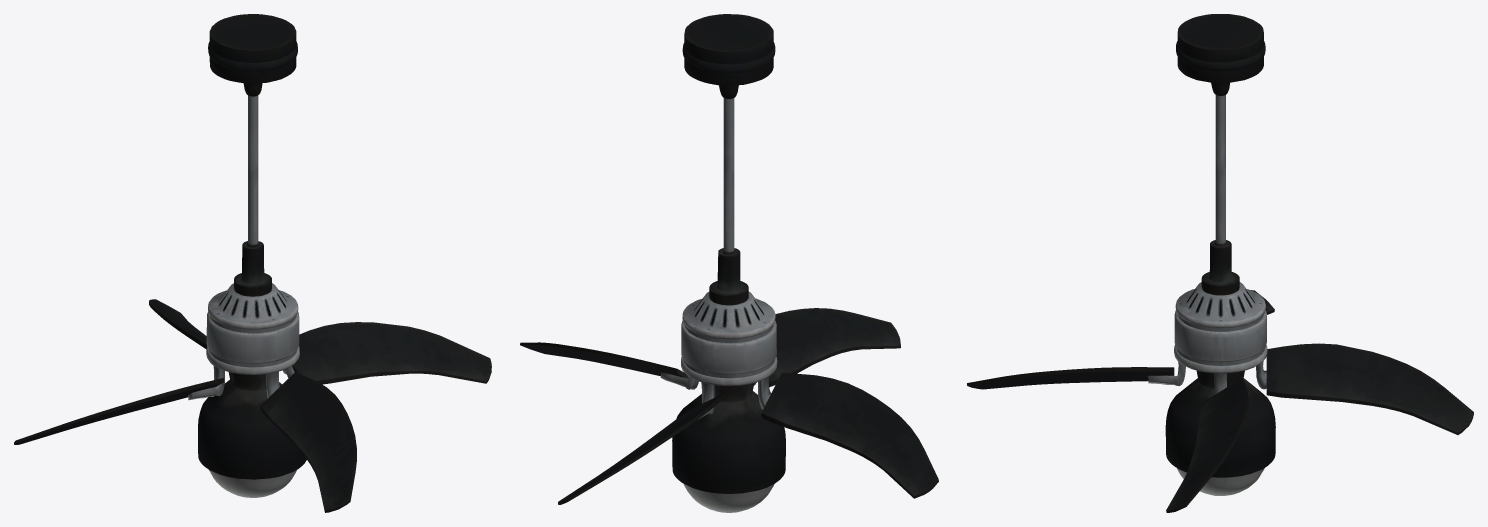
File: ph-ceiling-fan.glb
3 renders of one model, left to right at view 1: azimuth 30°, elevation 25°; view 2: azimuth 150°, elevation 25°; view 3: azimuth 270°, elevation 25°, orthographic. The views are drawn at different scales.
Visible parts, largest first — view 1: ceiling_fan; view 2: ceiling_fan; view 3: ceiling_fan.
Part boxes in pixels (<box>): ceiling_fan: <box>14,14,491,512</box>; ceiling_fan: <box>520,14,938,512</box>; ceiling_fan: <box>967,14,1473,512</box>.
Size of the model in its own units: 1 by 1 by 1.
1 material, 1 textured.
